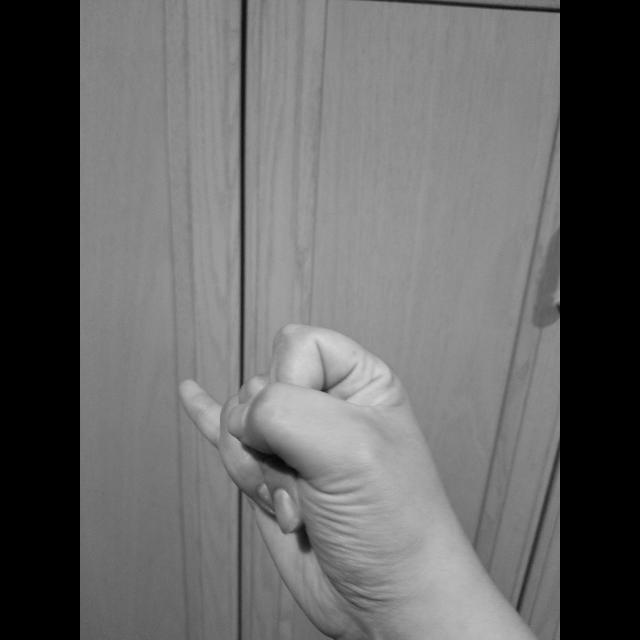J: (174, 316, 468, 640)
